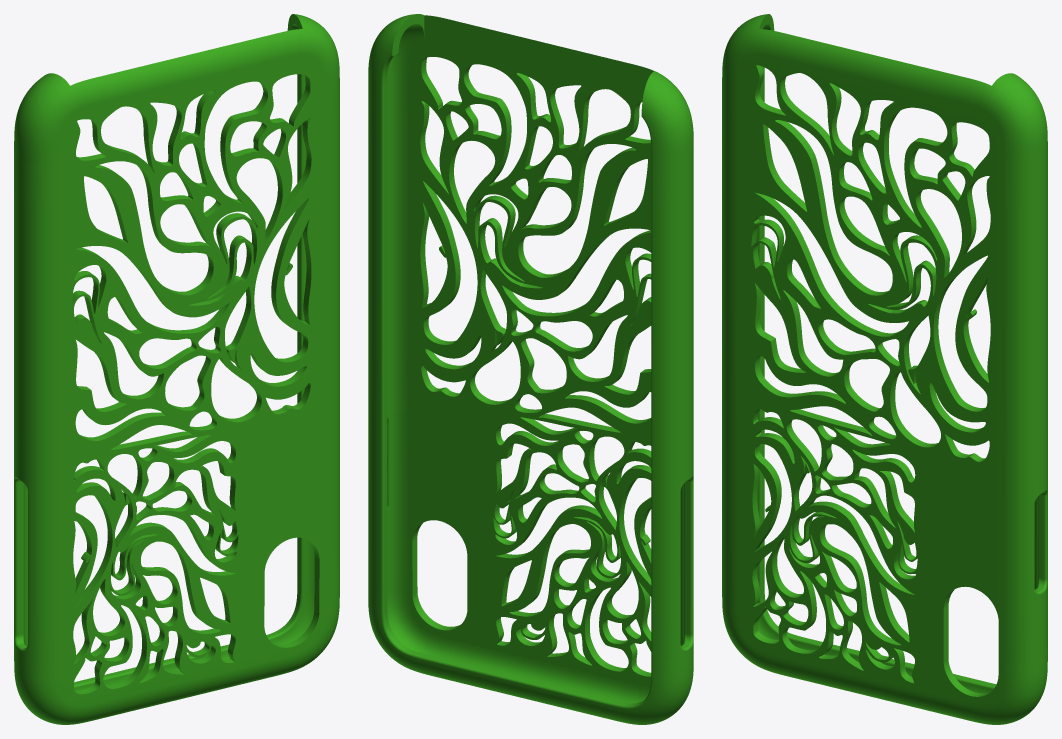
3 views of the same model, side by side, from view 1: azimuth 30°, elevation 25°; view 2: azimuth 150°, elevation 25°; view 3: azimuth 330°, elevation 25° (orthographic).
Visible parts, largest first — view 1: Object_2, Object_3; view 2: Object_2, Object_3; view 3: Object_2, Object_3.
Boxes of the visible parts, x1,y1,x2,y2 form: Object_2: (14, 14, 339, 724); Object_3: (14, 87, 339, 660); Object_2: (368, 14, 693, 724); Object_3: (368, 113, 693, 687); Object_2: (722, 14, 1047, 724); Object_3: (722, 98, 1047, 696).
Size of the model in its own units: 74.96 by 147 by 11.68.
